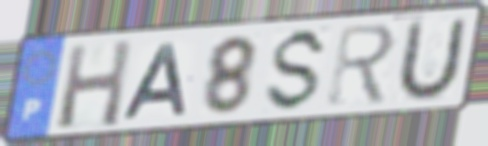8: (201, 32, 262, 117)
A: (119, 40, 191, 122)
H: (54, 36, 135, 132)
R: (325, 21, 399, 108)
S: (261, 25, 332, 115)
U: (391, 14, 470, 107)
